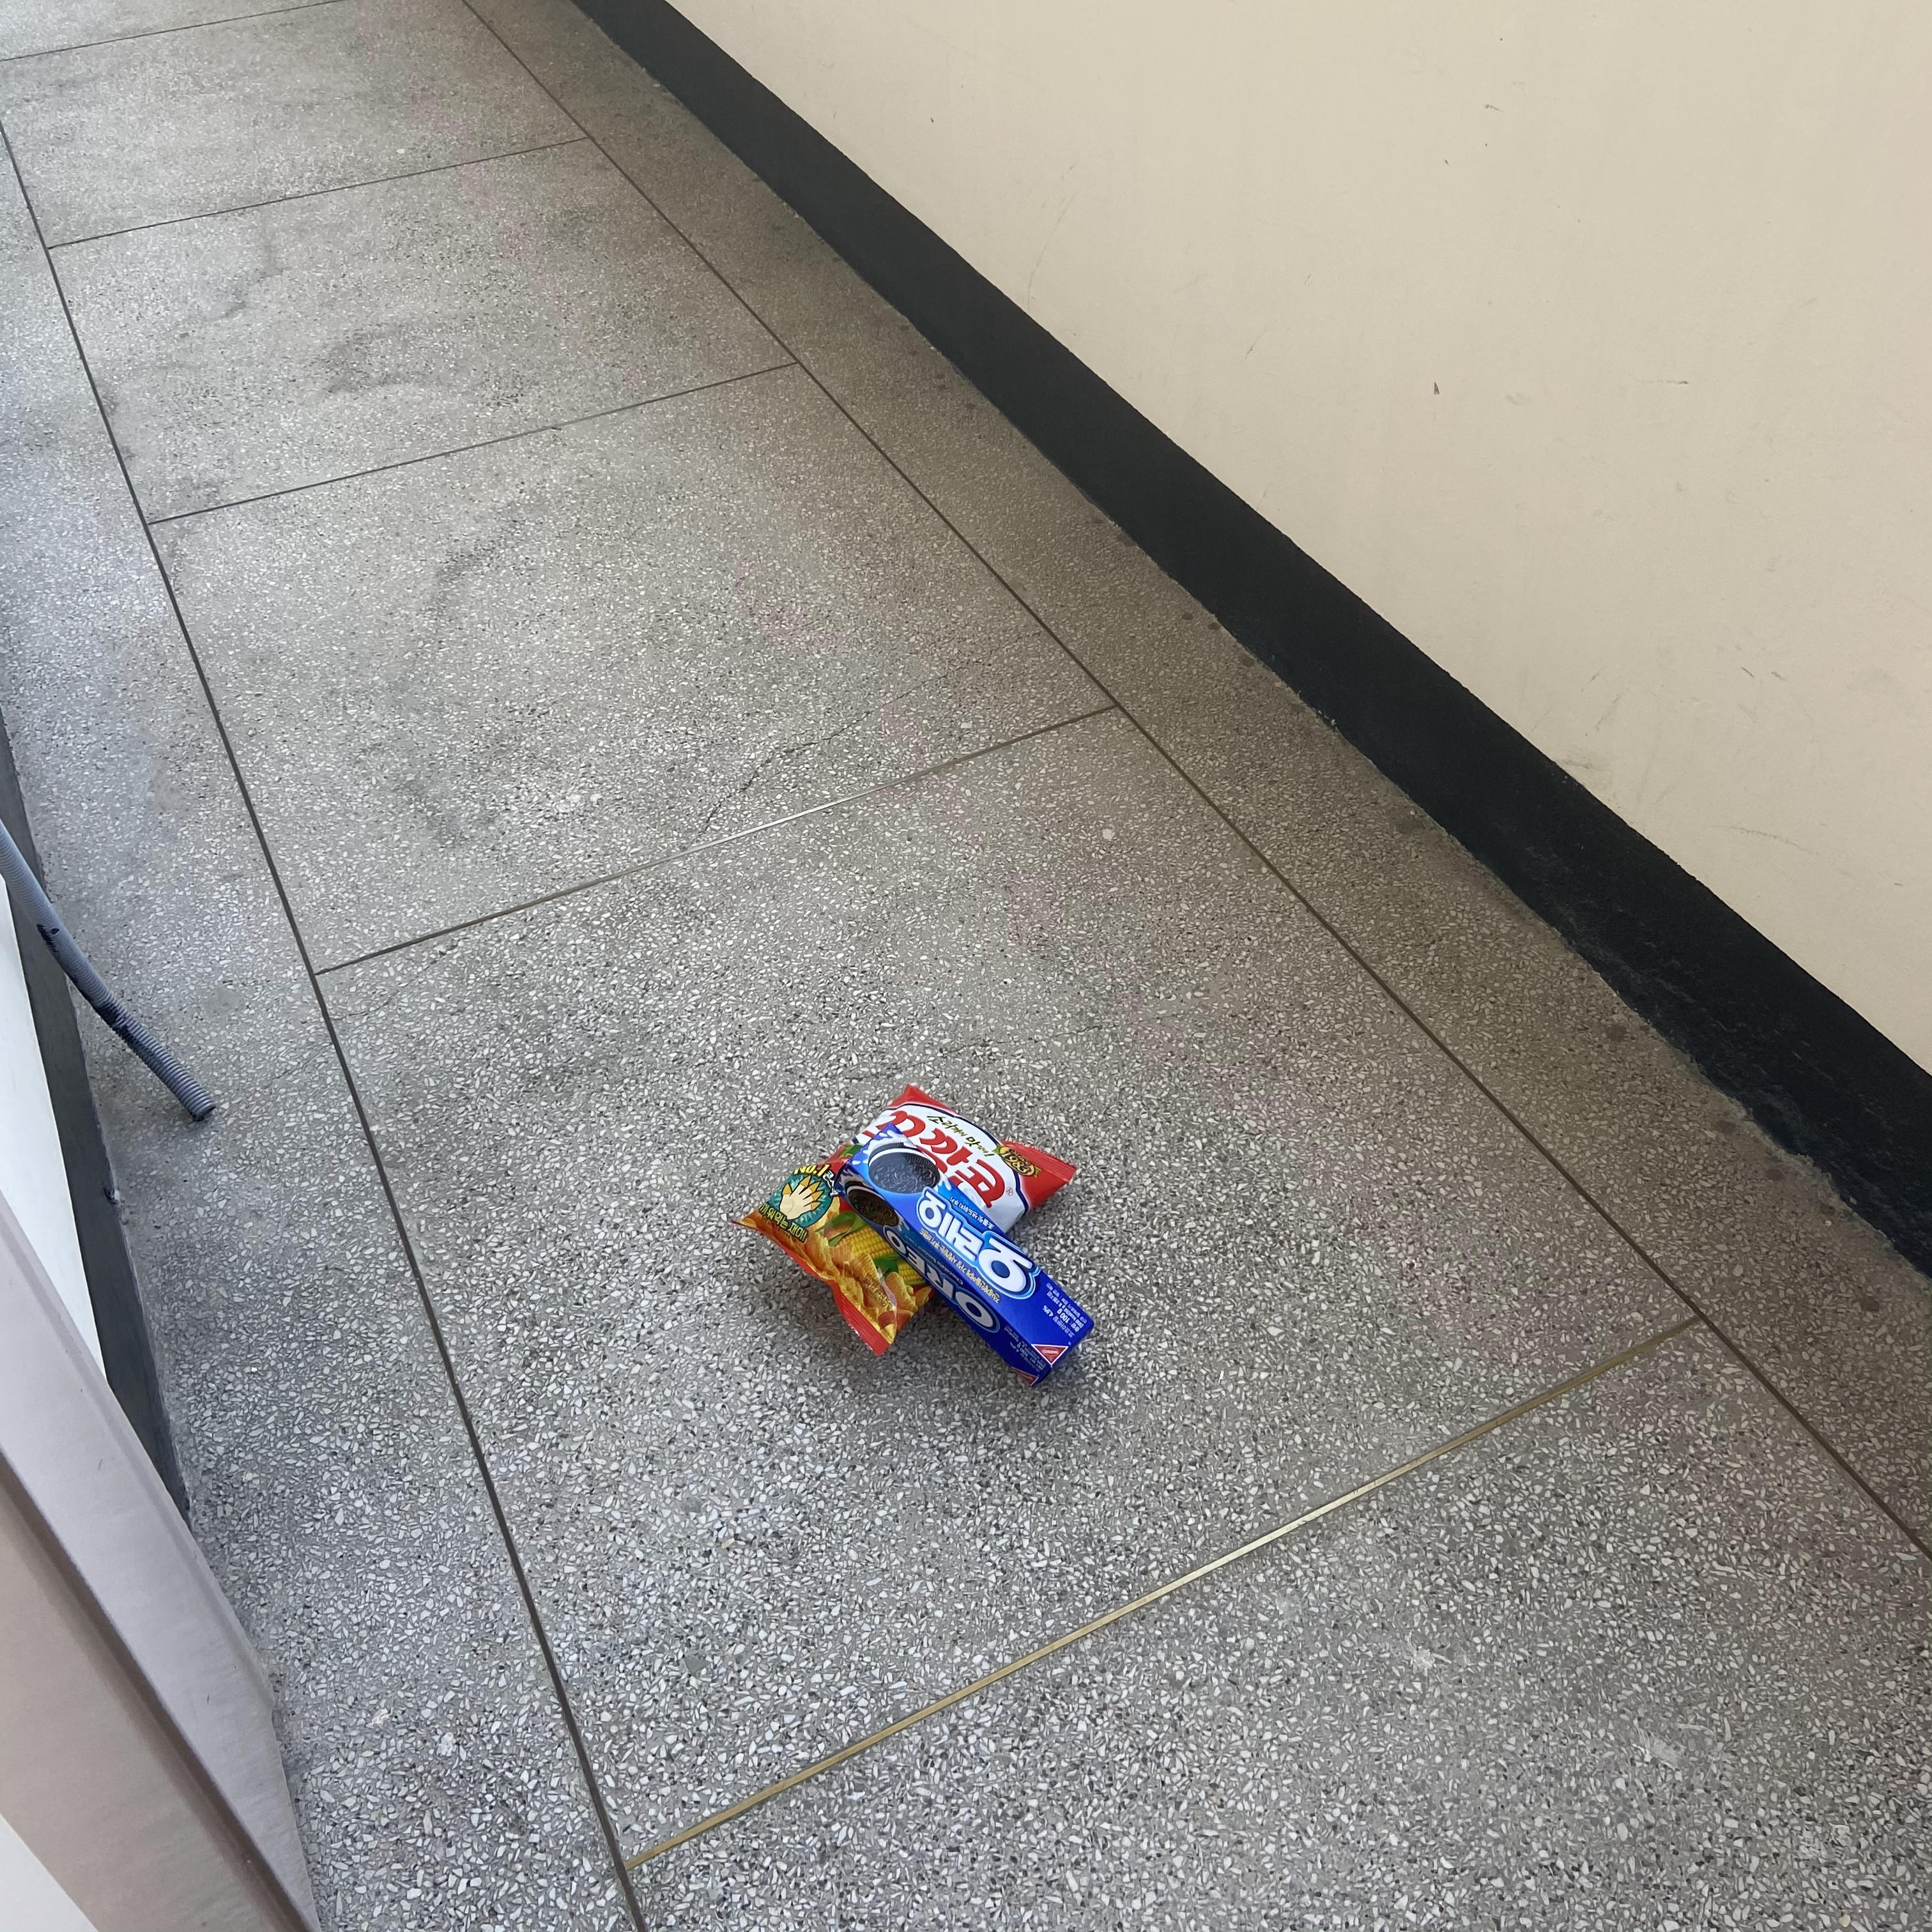ggoggalcon: (718, 1076, 1077, 1355)
oreo: (839, 1127, 1099, 1389)
